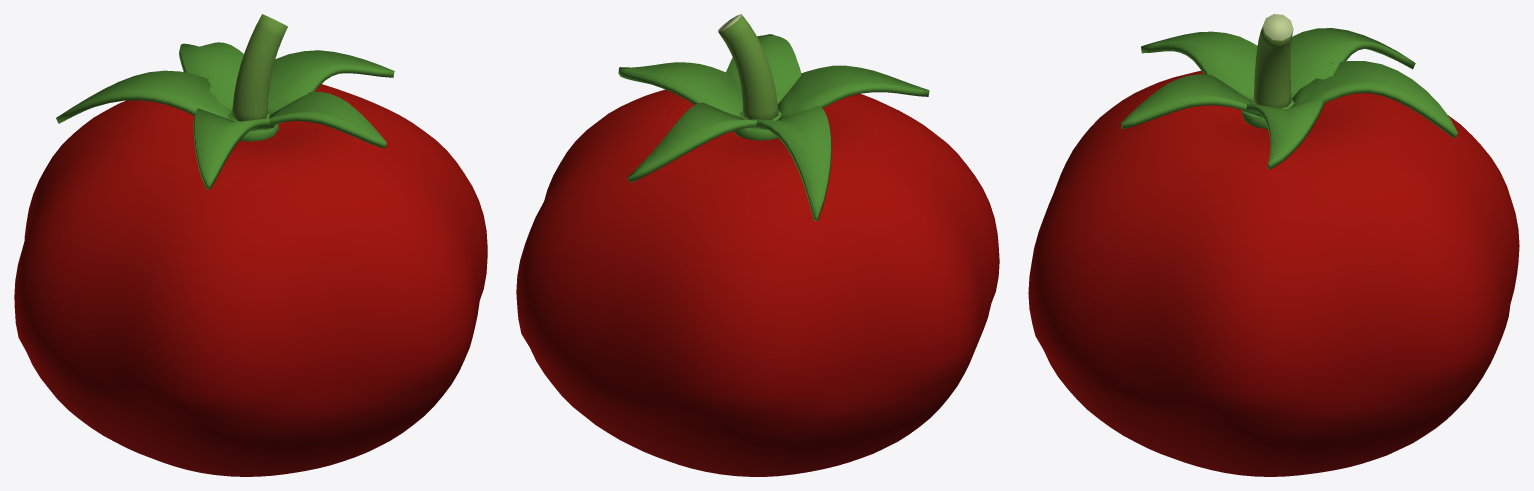
File: tomato.glb
3 renders of one model, left to right at view 1: azimuth 30°, elevation 25°; view 2: azimuth 150°, elevation 25°; view 3: azimuth 270°, elevation 25°, orthographic. The views are drawn at different scales.
Visible parts, largest first — view 1: Tomato_Body, Tomato_Calyx, Tomato_Stem; view 2: Tomato_Body, Tomato_Calyx, Tomato_Stem; view 3: Tomato_Body, Tomato_Calyx, Tomato_Stem.
Boxes of the visible parts, x1,y1,x2,y2 form: Tomato_Body: [14, 84, 487, 476]; Tomato_Calyx: [56, 42, 394, 189]; Tomato_Stem: [232, 14, 287, 121]; Tomato_Body: [516, 89, 999, 476]; Tomato_Calyx: [618, 34, 929, 220]; Tomato_Stem: [718, 14, 778, 120]; Tomato_Body: [1028, 71, 1519, 476]; Tomato_Calyx: [1121, 28, 1457, 169]; Tomato_Stem: [1253, 14, 1293, 108].
Size of the model in its own units: 0.0914 by 0.085 by 0.0875.
